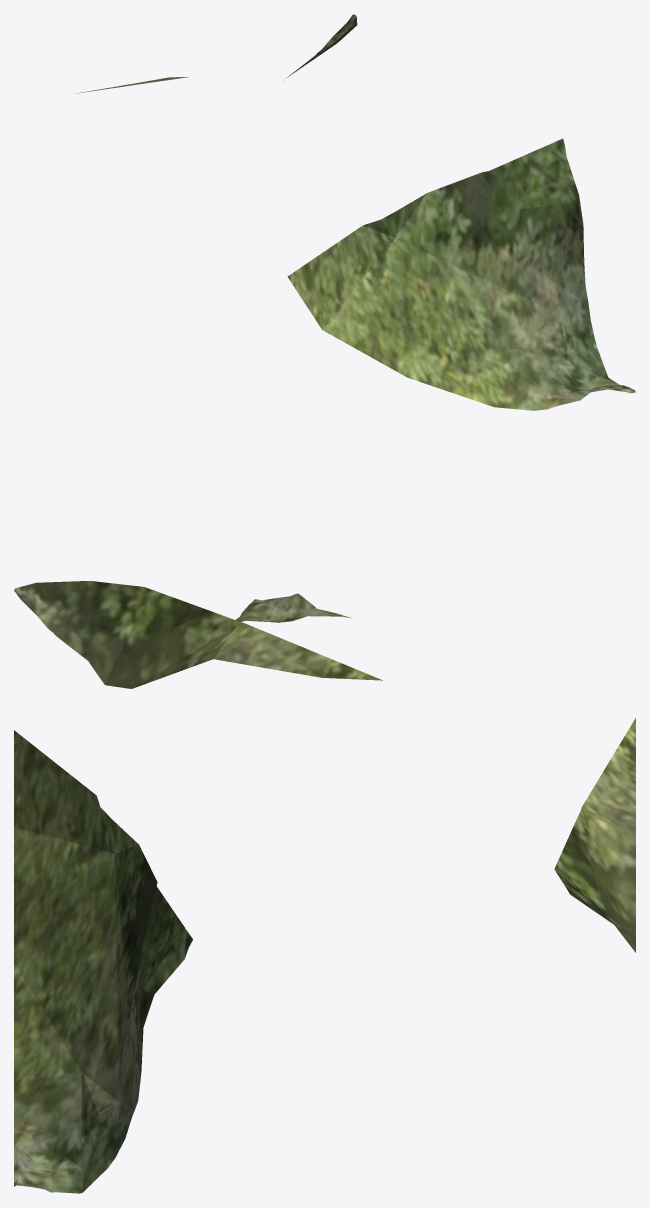
3 renders of one model, top to bottom at view 1: azimuth 30°, elevation 25°; view 2: azimuth 150°, elevation 25°; view 3: azimuth 270°, elevation 25°, orthographic. The views are drawn at different scales.
Size of the model in its own units: 2.49 by 1.33 by 2.95.
1 material, 1 textured.
